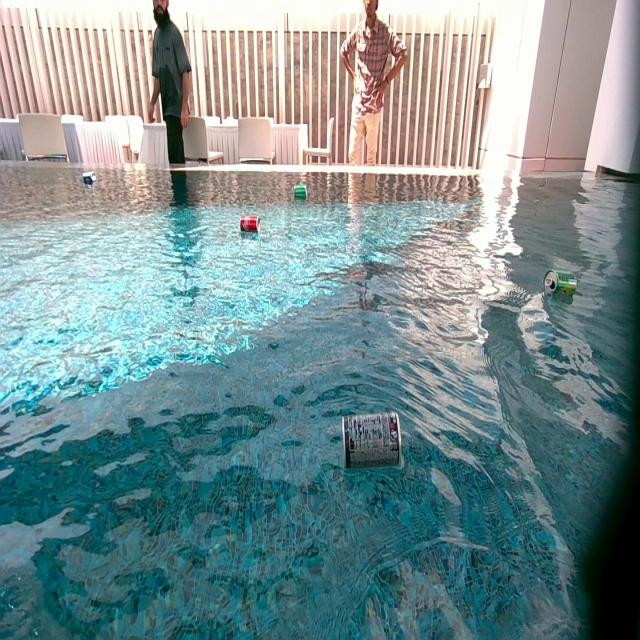Cans: (343, 410, 403, 474), (545, 270, 577, 300), (240, 216, 259, 233), (294, 184, 306, 198), (85, 172, 96, 185)
